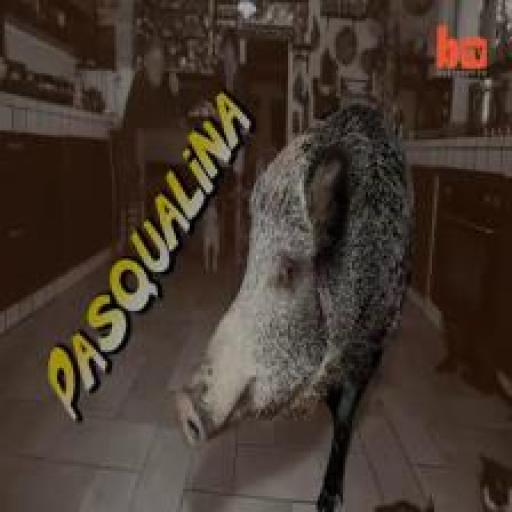Pig: (178, 103, 415, 512)
